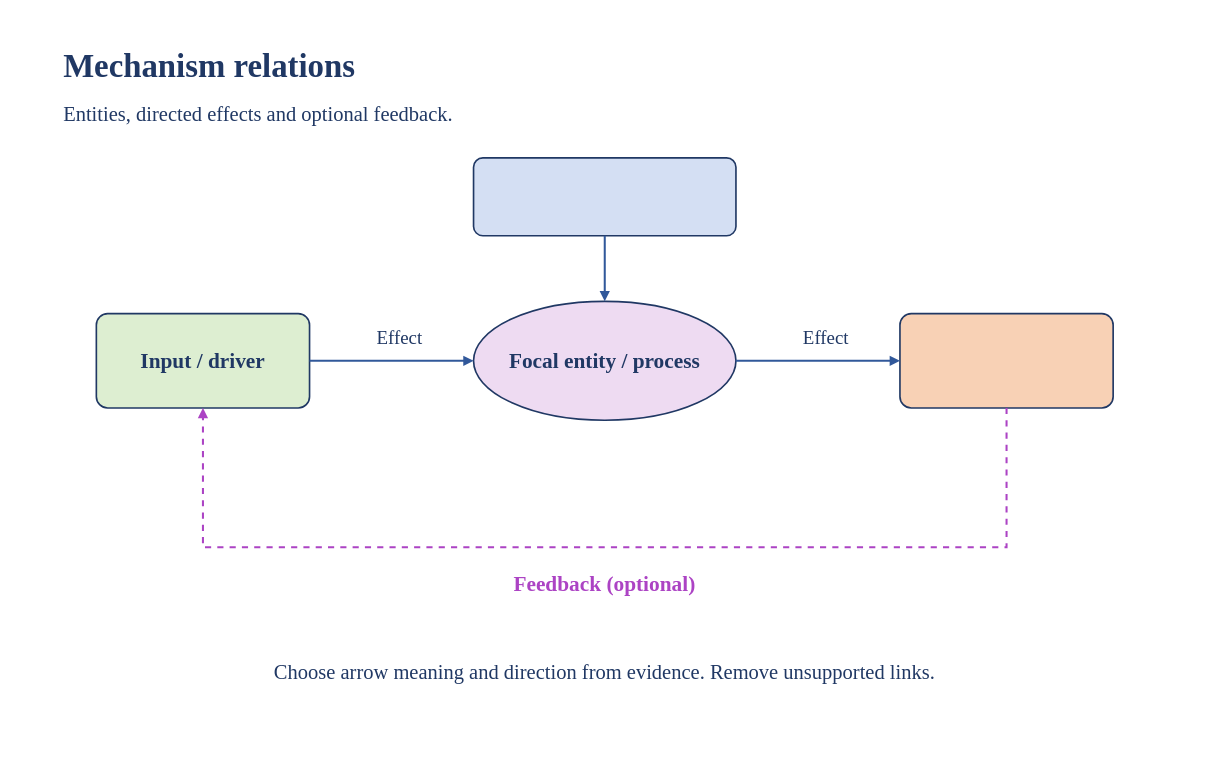
This 1209x766 diagram has some shape labels left out. The shapes that lost their labels are listed below. From the top down, each one's centre as x and y in pixels, then its label:
At (x=604, y=196): "Context / mediator".
At (x=1006, y=360): "Response / outcome".
